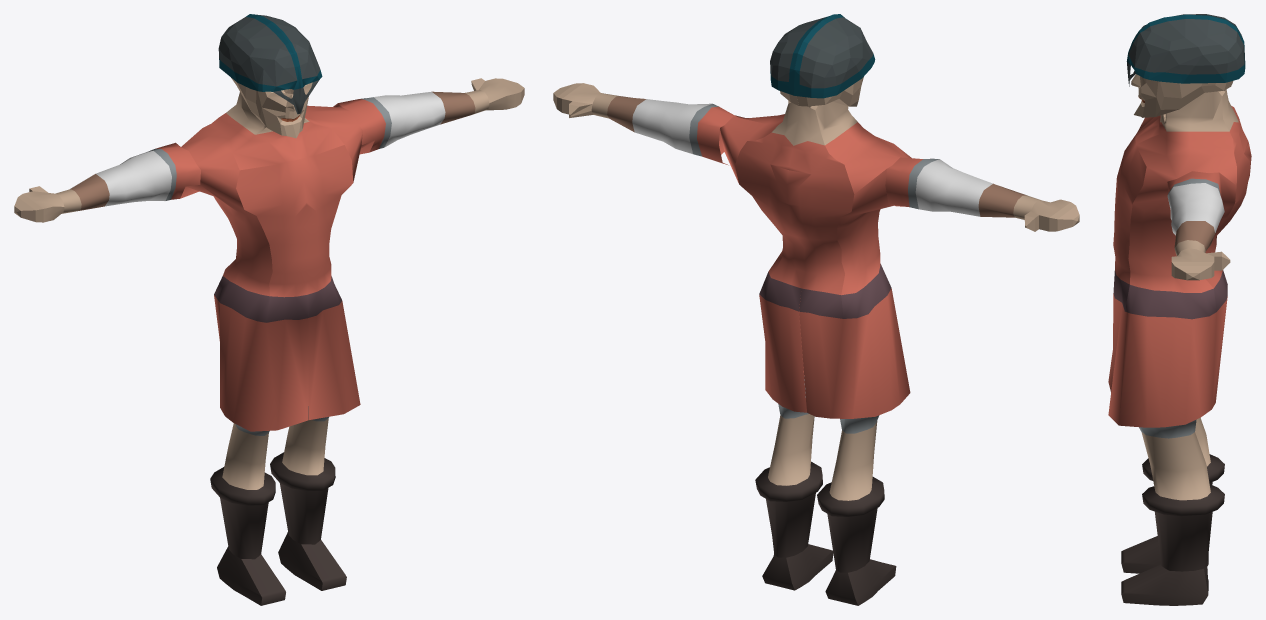
The model's file is Archer1.fbx.
3 renders of one model, left to right at view 1: azimuth 30°, elevation 25°; view 2: azimuth 150°, elevation 25°; view 3: azimuth 270°, elevation 25°, orthographic. The views are drawn at different scales.
Parts seen in each view (by area): view 1: Box001.001, Cube.001, CABEZA; view 2: Box001.001, Cube.001, CABEZA; view 3: Box001.001, Cube.001, CABEZA.
Part boxes in pixels (x1,y1,x2,y2): Box001.001: (14,78,524,605); Cube.001: (218,14,322,114); CABEZA: (231,78,312,138); Box001.001: (553,83,1079,605); Cube.001: (770,14,875,98); CABEZA: (780,77,863,106); Box001.001: (1108,89,1251,605); Cube.001: (1126,14,1245,86); CABEZA: (1131,74,1233,117).
Size of the model in its own units: 2952 by 3086 by 705.
